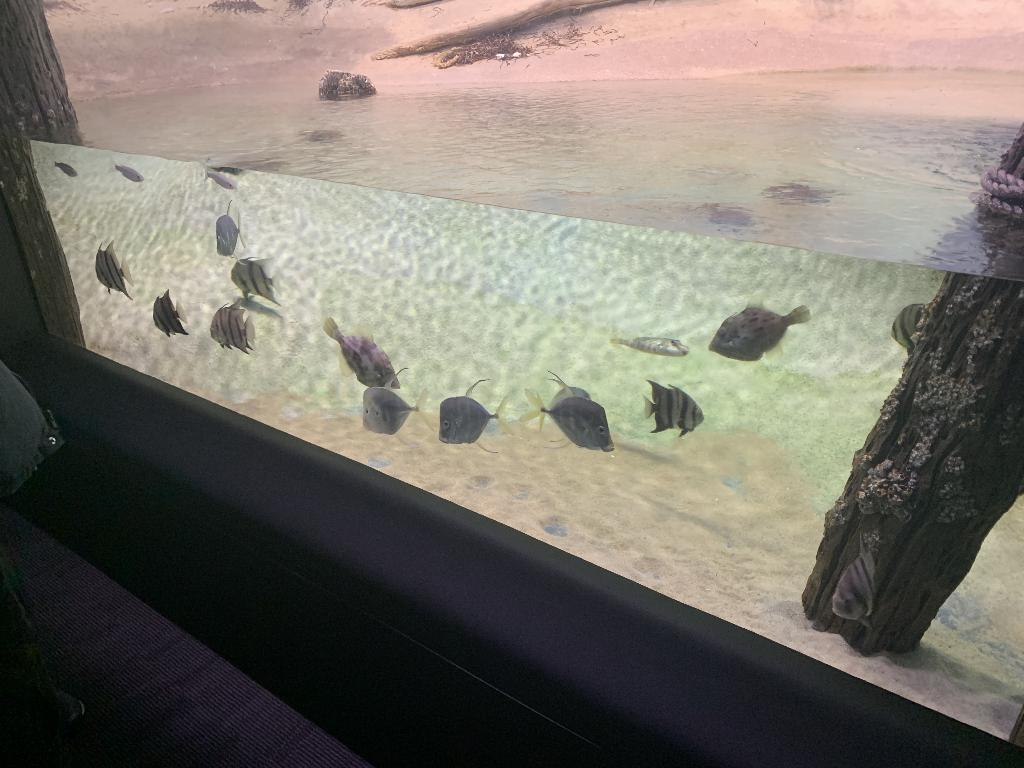fish: (518, 370, 614, 452), (708, 294, 812, 362), (438, 378, 516, 454), (362, 367, 436, 447), (321, 315, 401, 389), (829, 528, 879, 632), (641, 378, 705, 438), (535, 378, 591, 438), (889, 302, 941, 358), (230, 256, 284, 306), (210, 298, 256, 354), (94, 240, 136, 300), (214, 198, 248, 266), (152, 288, 190, 338), (608, 335, 690, 357), (106, 157, 144, 183), (201, 163, 237, 189), (50, 158, 78, 178)
